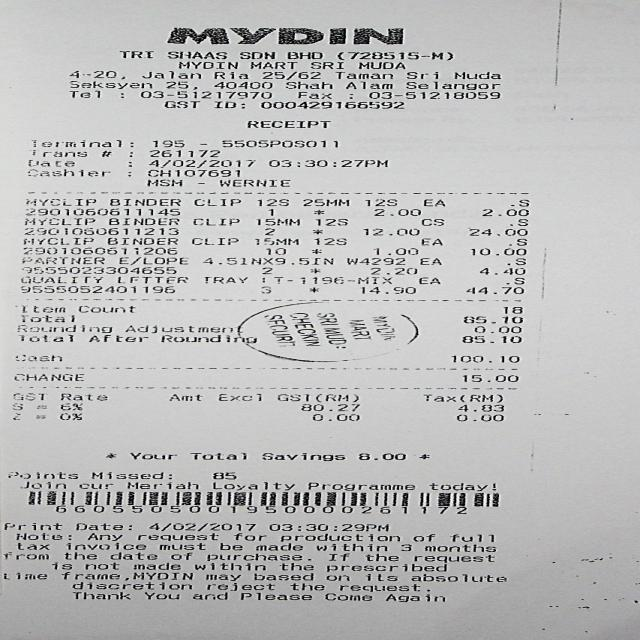text: (163, 28, 403, 44), (55, 505, 466, 514), (22, 228, 178, 235), (22, 248, 178, 255), (20, 286, 175, 293), (140, 91, 272, 99), (44, 266, 175, 274), (49, 208, 179, 216), (260, 101, 404, 108), (273, 276, 393, 284), (279, 534, 399, 542), (326, 564, 446, 572), (123, 325, 241, 333), (336, 52, 452, 60), (404, 81, 499, 90), (148, 160, 254, 168), (307, 482, 413, 490), (148, 523, 254, 531), (71, 582, 192, 589), (268, 524, 388, 531), (268, 160, 387, 167), (206, 553, 310, 561), (222, 140, 338, 147), (200, 258, 333, 264), (368, 92, 499, 98), (16, 325, 112, 333), (160, 335, 256, 343), (410, 574, 506, 582), (29, 140, 132, 147), (339, 584, 429, 592), (246, 120, 329, 128), (261, 452, 344, 460), (276, 394, 358, 402), (212, 482, 294, 490), (136, 532, 218, 540), (64, 542, 146, 550), (146, 169, 239, 176), (422, 394, 503, 402), (428, 482, 494, 491), (314, 543, 388, 551), (20, 257, 104, 264), (27, 169, 110, 176), (423, 544, 495, 552), (240, 592, 311, 600), (413, 555, 494, 562), (106, 237, 176, 245), (117, 276, 187, 284), (90, 472, 170, 479), (13, 373, 82, 381), (451, 355, 519, 363), (60, 572, 128, 580), (206, 582, 274, 590), (107, 218, 179, 225), (22, 238, 93, 245), (148, 150, 218, 157), (24, 198, 94, 205), (24, 218, 94, 225), (117, 257, 187, 264), (194, 563, 264, 570), (460, 335, 521, 343), (21, 277, 102, 283), (7, 472, 76, 479), (166, 51, 226, 59), (88, 334, 148, 342), (384, 594, 444, 602), (177, 61, 236, 69), (3, 522, 62, 530), (132, 572, 191, 580), (261, 72, 319, 80), (468, 228, 526, 236), (18, 314, 74, 322), (360, 286, 414, 294), (126, 482, 197, 488), (218, 180, 288, 186), (110, 199, 180, 205), (141, 71, 200, 78), (71, 592, 130, 599), (463, 316, 521, 323), (459, 375, 517, 382), (301, 404, 359, 411), (254, 573, 312, 580), (466, 287, 523, 294), (74, 523, 131, 530), (14, 533, 70, 540), (470, 248, 525, 255), (68, 70, 116, 78), (284, 81, 332, 89), (345, 81, 393, 89), (455, 414, 503, 422), (254, 543, 302, 551), (324, 593, 372, 601), (133, 562, 180, 570), (159, 542, 204, 550), (333, 72, 392, 78), (213, 82, 272, 88), (20, 305, 64, 313), (92, 83, 150, 89), (346, 258, 404, 264), (218, 393, 261, 401), (449, 534, 492, 542), (362, 229, 419, 235), (77, 306, 134, 312), (30, 150, 86, 156), (191, 218, 239, 225), (311, 414, 359, 421), (189, 453, 245, 459), (473, 326, 520, 333), (14, 354, 61, 361), (59, 394, 106, 401), (358, 453, 405, 460), (109, 552, 156, 559), (19, 335, 73, 341), (194, 199, 240, 206), (454, 72, 499, 79), (303, 199, 348, 206), (254, 218, 299, 225), (458, 404, 503, 411), (3, 552, 48, 559), (20, 481, 64, 488), (2, 572, 46, 579), (128, 453, 176, 459), (13, 542, 49, 550), (250, 62, 297, 68), (357, 62, 404, 68), (27, 160, 74, 166), (190, 238, 237, 244), (370, 268, 417, 274), (373, 209, 419, 215), (481, 209, 527, 215), (478, 268, 524, 274), (119, 50, 153, 58), (373, 248, 418, 254), (254, 238, 297, 244), (203, 277, 246, 283), (165, 81, 197, 89), (64, 552, 96, 560), (238, 52, 274, 59), (146, 180, 182, 187), (85, 533, 121, 540), (83, 562, 119, 569), (204, 574, 240, 581), (143, 592, 179, 599), (286, 52, 321, 59), (191, 592, 226, 599), (12, 393, 46, 400), (232, 533, 266, 540), (364, 554, 398, 561), (279, 563, 313, 570), (290, 583, 324, 590), (68, 90, 101, 97), (364, 199, 397, 206), (314, 218, 347, 225), (312, 238, 345, 245), (162, 101, 200, 107), (213, 101, 245, 108), (364, 574, 396, 581), (152, 140, 183, 147), (256, 199, 287, 206), (309, 62, 343, 68), (214, 72, 248, 78), (297, 92, 331, 98), (78, 483, 112, 489), (405, 72, 437, 78), (168, 394, 200, 400), (69, 81, 96, 88), (170, 552, 192, 560), (212, 472, 236, 479), (327, 553, 348, 561), (422, 199, 445, 206), (416, 277, 439, 284), (219, 543, 242, 550), (58, 413, 80, 420), (421, 238, 442, 245), (60, 403, 81, 410), (50, 562, 71, 569), (509, 199, 529, 206), (413, 534, 433, 541), (420, 219, 443, 225), (508, 219, 527, 226), (419, 258, 440, 264), (506, 258, 524, 265), (506, 277, 524, 284), (266, 248, 285, 254), (503, 307, 522, 313), (326, 575, 348, 580), (508, 239, 526, 245), (263, 228, 275, 235), (11, 403, 23, 410), (399, 544, 411, 551), (262, 267, 272, 274), (260, 286, 270, 293), (10, 413, 20, 420), (100, 150, 110, 156), (310, 229, 322, 234), (311, 248, 321, 254), (308, 268, 320, 273), (104, 453, 115, 458), (309, 287, 319, 292), (313, 210, 325, 214), (417, 454, 429, 458), (268, 209, 274, 216)
